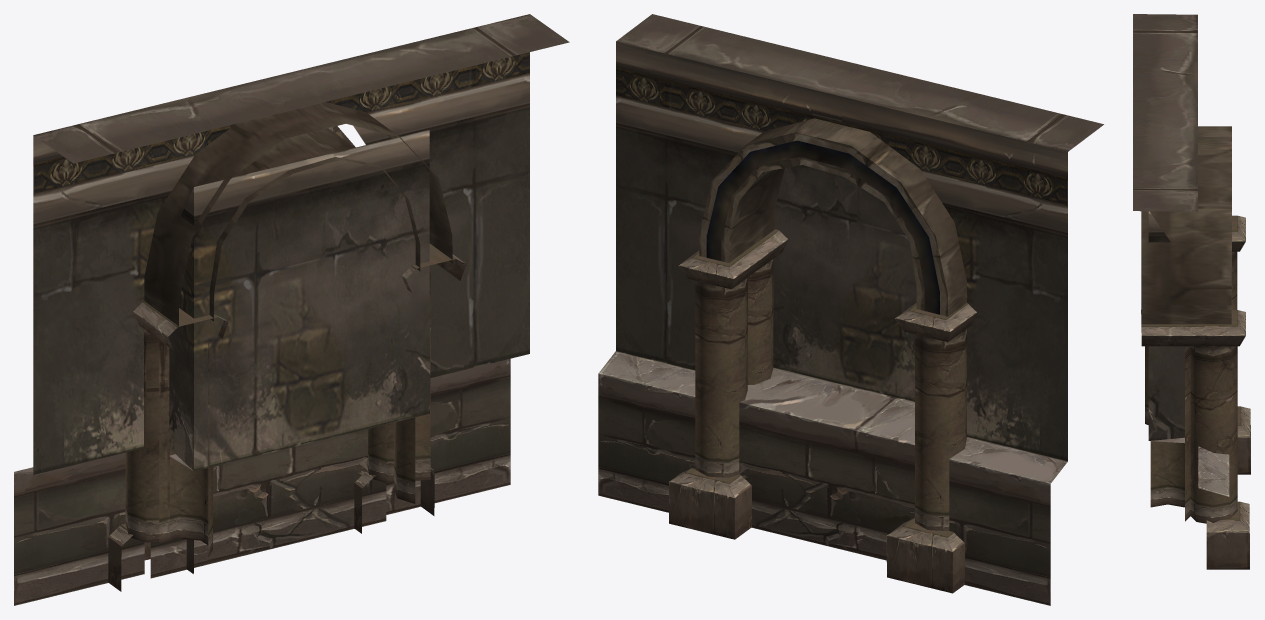
File: a06_01_wall_k002.FBX
3 views of the same model, side by side, from view 1: azimuth 30°, elevation 25°; view 2: azimuth 150°, elevation 25°; view 3: azimuth 270°, elevation 25° (orthographic). The views are drawn at different scales.
Parts seen in each view (by area): view 1: a06_01_wall_k002; view 2: a06_01_wall_k002; view 3: a06_01_wall_k002.
Boxes of the visible parts, x1,y1,x2,y2 form: a06_01_wall_k002: [14, 14, 569, 605]; a06_01_wall_k002: [598, 14, 1103, 605]; a06_01_wall_k002: [1133, 14, 1250, 569].
Bounding box in the file's own units: 5.11 × 4.78 × 1.29.
